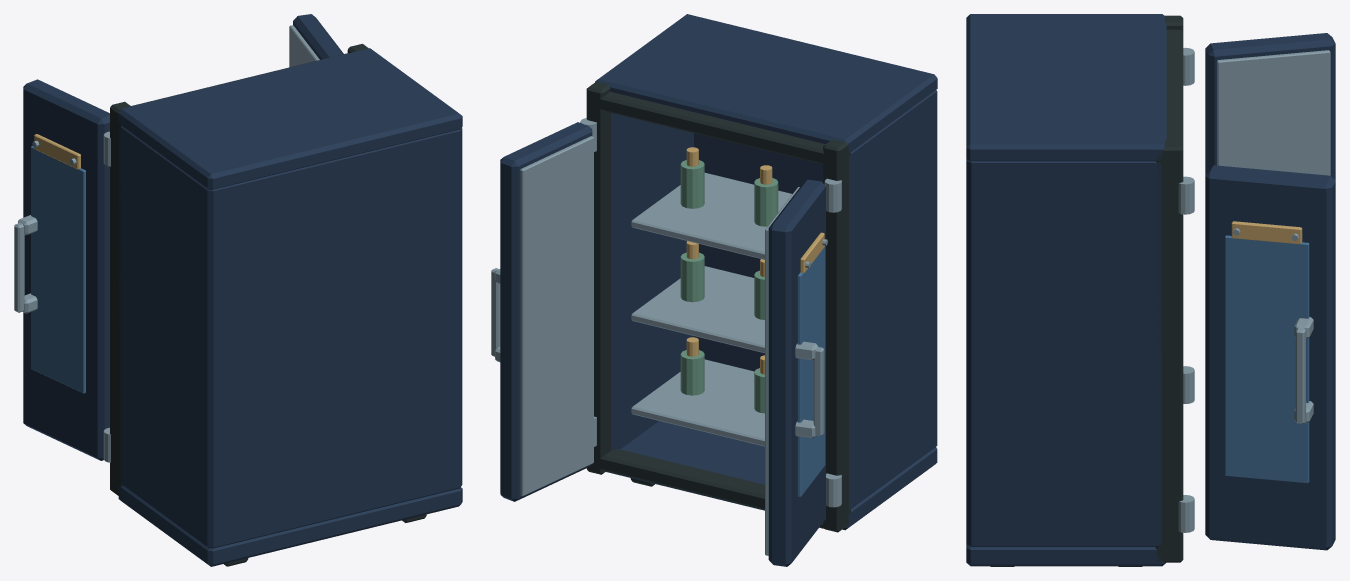
File: bottle_storage_cabinet_opened.glb
The picture shows the model from 3 angles, left to right: view 1: azimuth 30°, elevation 25°; view 2: azimuth 150°, elevation 25°; view 3: azimuth 270°, elevation 25°; orthographic projection. The views are drawn at different scales.
Visible parts, largest first — view 1: body_back_wall, body_side_wall (×2), body_roof, moving_left_door, moving_left_drink_panel, body_floor, front_side_frame, moving_right_door, moving_left_handle_grip, moving_right_inner_panel, moving_left_drink_id_plate; view 2: body_side_wall (×2), body_roof, moving_right_inner_panel, interior_shelf (×3), front_side_frame (×2), moving_left_door, front_cross_frame (×2), body_back_wall, moving_right_door, body_floor, moving_left_drink_panel, drink_bottle (×4) (+3 smaller); view 3: body_side_wall, body_roof, moving_right_door, moving_right_drink_panel, moving_left_inner_panel, front_side_frame, moving_left_door, body_floor, body_back_wall, front_cross_frame, hinge_pin (×2), moving_right_drink_id_plate (+1 smaller).
Boxes of the visible parts, x1=… form: body_back_wall: x1=200, y1=130, x2=460, y2=548; body_side_wall (×2): x1=118, y1=126, x2=462, y2=548; body_roof: x1=118, y1=48, x2=462, y2=189; moving_left_door: x1=23, y1=79, x2=109, y2=460; moving_left_drink_panel: x1=31, y1=146, x2=85, y2=393; body_floor: x1=118, y1=486, x2=462, y2=566; front_side_frame: x1=110, y1=101, x2=130, y2=496; moving_right_door: x1=293, y1=14, x2=343, y2=59; moving_left_handle_grip: x1=14, y1=223, x2=24, y2=312; moving_right_inner_panel: x1=289, y1=25, x2=319, y2=67; moving_left_drink_id_plate: x1=34, y1=134, x2=80, y2=169; body_side_wall (×2): x1=611, y1=90, x2=937, y2=509; body_roof: x1=595, y1=14, x2=937, y2=153; moving_right_inner_panel: x1=520, y1=136, x2=593, y2=495; interior_shelf (×3): x1=631, y1=172, x2=792, y2=446; front_side_frame (×2): x1=586, y1=81, x2=850, y2=532; moving_left_door: x1=768, y1=179, x2=825, y2=566; front_cross_frame (×2): x1=587, y1=91, x2=850, y2=525; body_back_wall: x1=694, y1=90, x2=937, y2=450; moving_right_door: x1=500, y1=122, x2=592, y2=501; body_floor: x1=606, y1=421, x2=937, y2=530; moving_left_drink_panel: x1=797, y1=245, x2=825, y2=496; drink_bottle (×4): x1=680, y1=160, x2=778, y2=395; body_side_wall: x1=966, y1=159, x2=1161, y2=546; body_roof: x1=966, y1=14, x2=1166, y2=161; moving_right_door: x1=1205, y1=165, x2=1335, y2=550; moving_right_drink_panel: x1=1225, y1=235, x2=1309, y2=483; moving_left_inner_panel: x1=1217, y1=50, x2=1330, y2=175; front_side_frame: x1=1156, y1=140, x2=1183, y2=562; moving_left_door: x1=1205, y1=33, x2=1335, y2=180; body_floor: x1=966, y1=544, x2=1165, y2=566; body_back_wall: x1=971, y1=161, x2=985, y2=546; front_cross_frame: x1=1158, y1=29, x2=1183, y2=167; hinge_pin (×2): x1=1178, y1=176, x2=1194, y2=532; moving_right_drink_id_plate: x1=1231, y1=221, x2=1302, y2=244.
Bounding box in the file's own units: 1.42 × 1.66 × 1.27.
